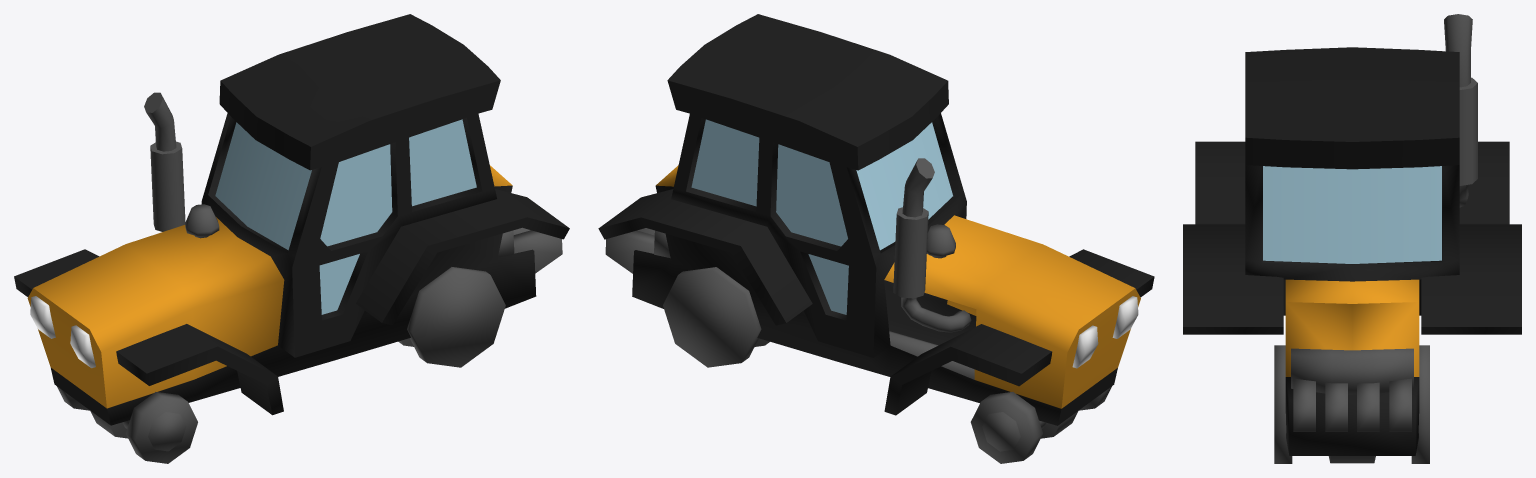
Rendered from tractor_scaled.glb.
3 views of the same model, side by side, from view 1: azimuth 30°, elevation 25°; view 2: azimuth 150°, elevation 25°; view 3: azimuth 270°, elevation 25° (orthographic). The views are drawn at different scales.
Visible parts, largest first — view 1: Plane; view 2: Plane; view 3: Plane.
Part boxes in pixels (x1,y1,x2,y2): Plane: (14, 14, 569, 463); Plane: (598, 14, 1154, 463); Plane: (1183, 14, 1521, 463).
Size of the model in its own units: 3.85 by 2.35 by 1.99.
